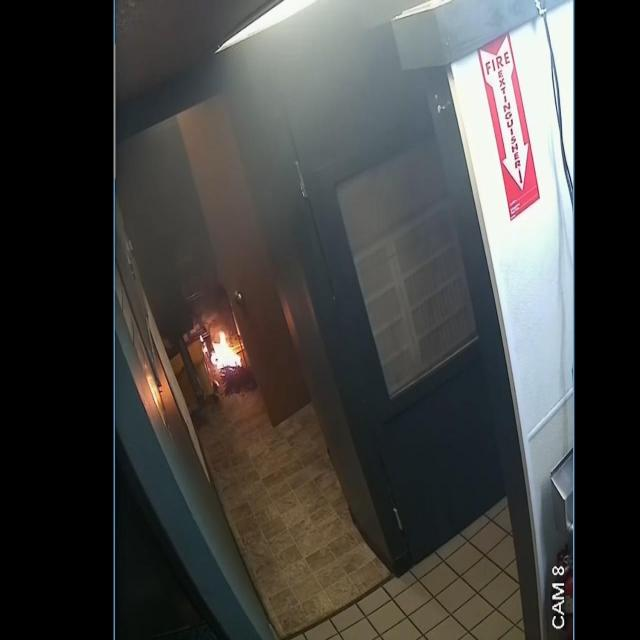fire: (211, 330, 241, 370)
